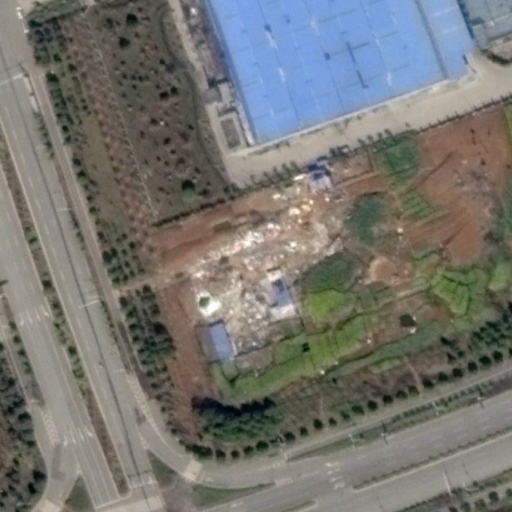msw: (194, 203, 331, 357)
